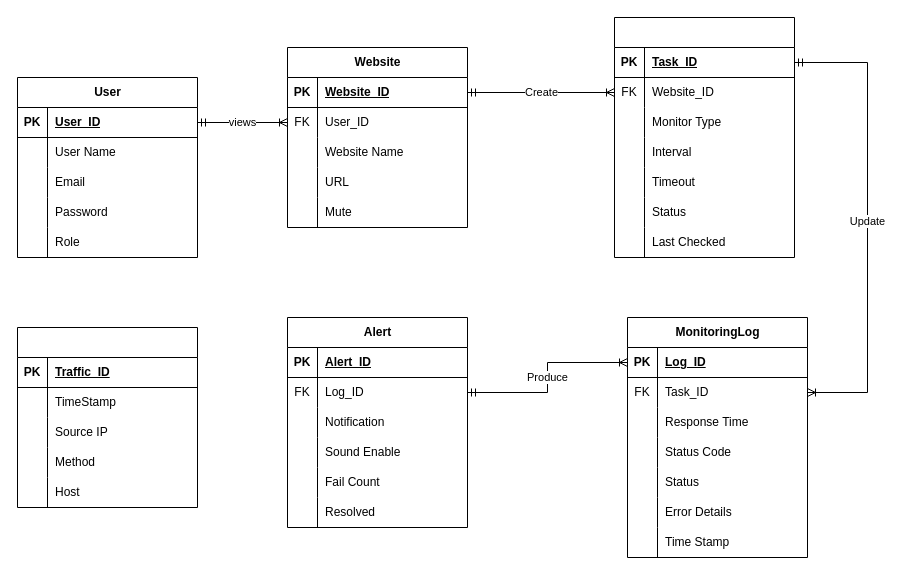
Some shapes in this 902 by 575 pixel diagram are drawn without their labels. The shapes that lost their labels are listed below. From the top down, each one's box as (x1, y1, x2, y2) in pixels, then its label:
(614, 16, 794, 258): Monitor Task
(16, 326, 198, 508): Traffic Log
